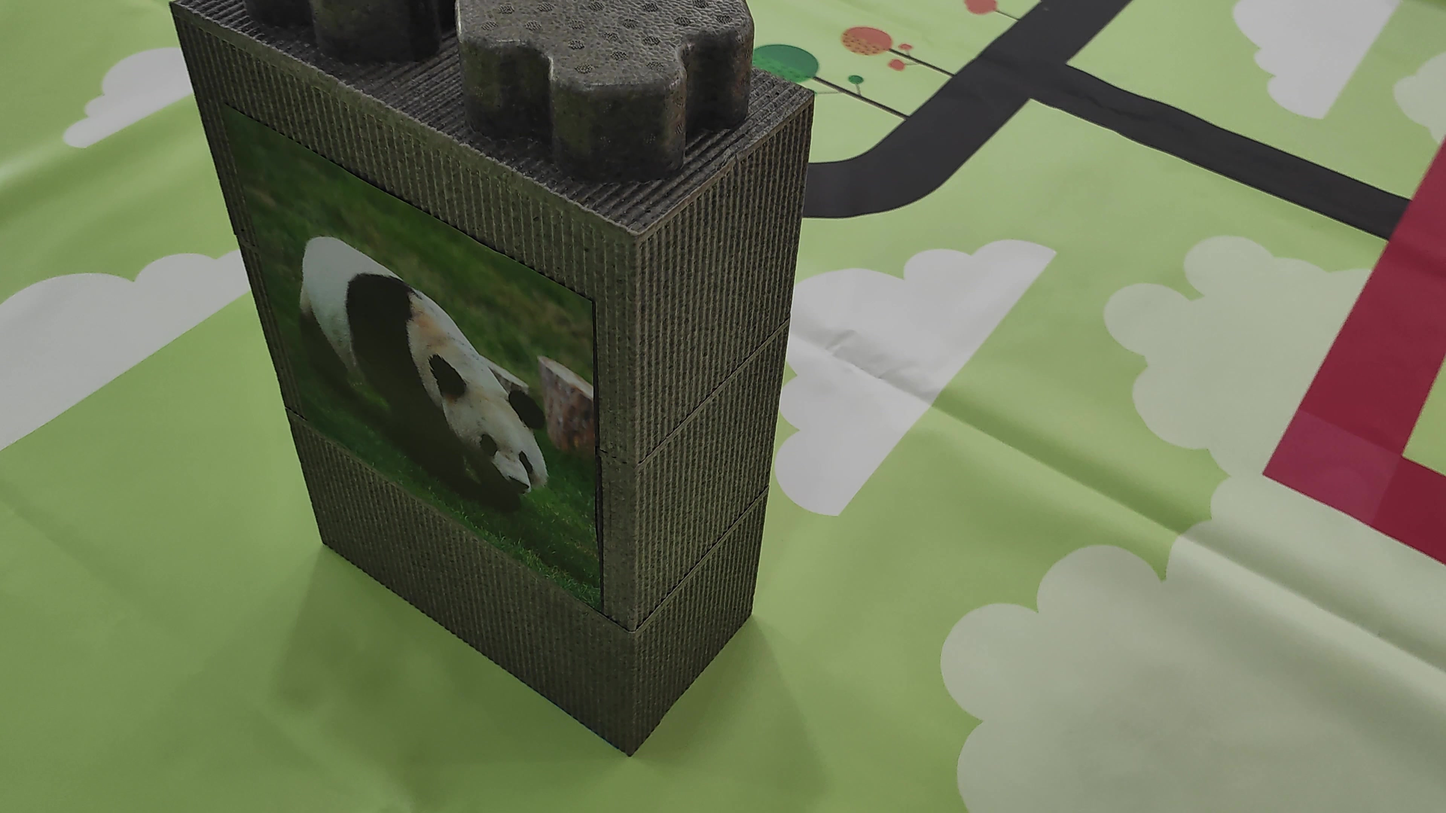panda: (242, 178, 561, 527)
